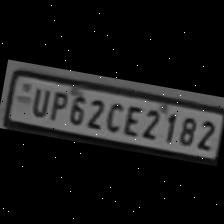1: (158, 108, 179, 142)
2: (136, 102, 163, 139), (192, 112, 219, 149), (82, 93, 108, 129)
6: (64, 89, 87, 124)
8: (173, 110, 198, 146)
C: (101, 96, 124, 132)
E: (120, 100, 143, 136)
P: (45, 86, 68, 120)
U: (25, 81, 51, 117)
